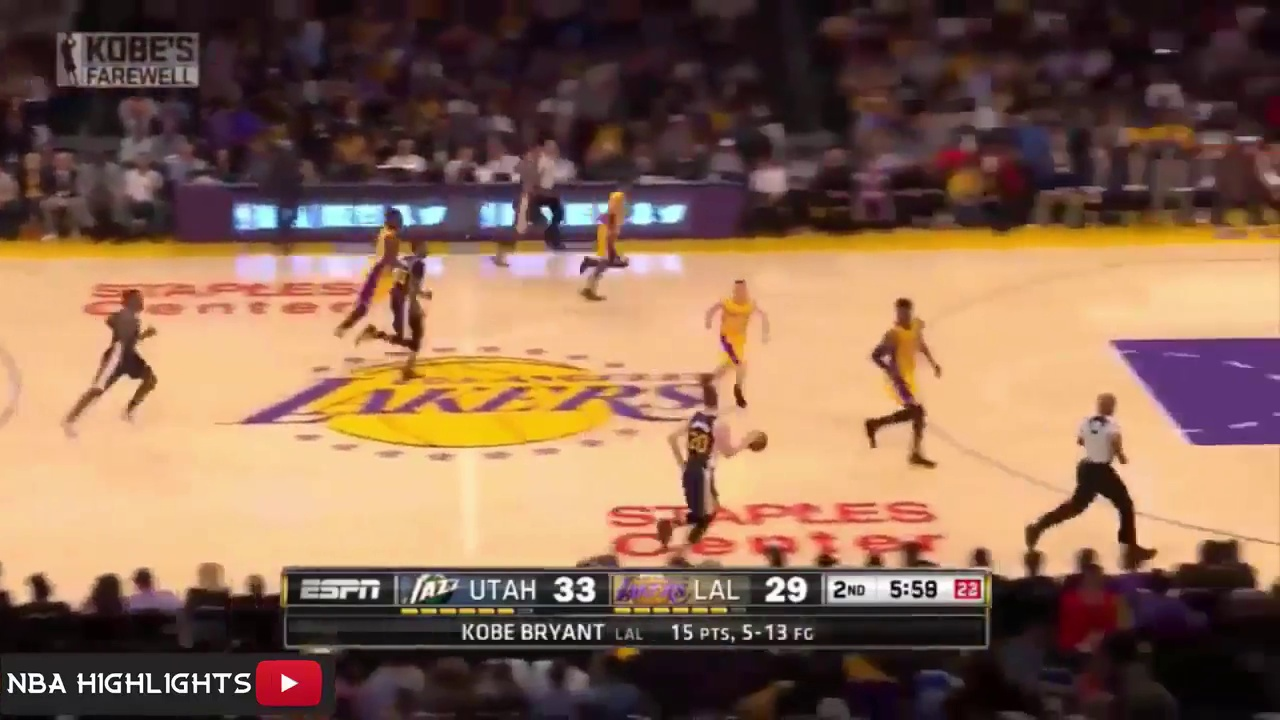jazz: (59, 283, 183, 449), (649, 394, 757, 577), (357, 237, 454, 381), (483, 142, 561, 270)
lakers: (853, 292, 947, 475), (698, 268, 778, 405), (335, 205, 418, 336), (583, 182, 646, 298)
